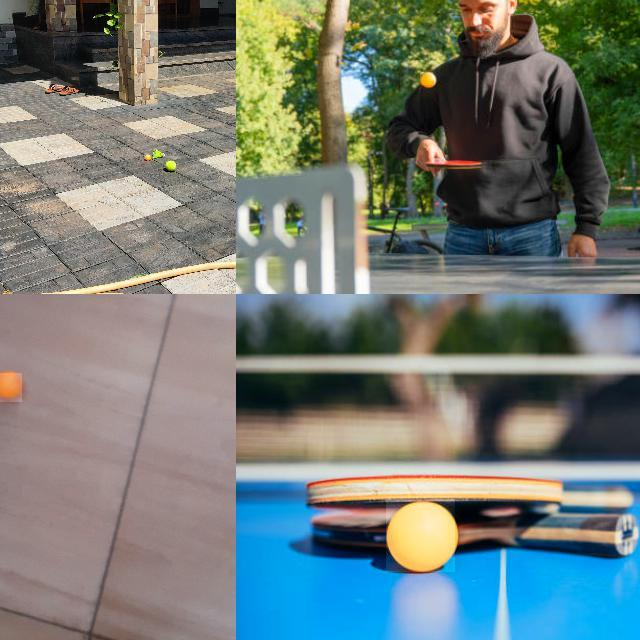ping-pong-ball: (386, 500, 456, 572), (0, 373, 23, 404), (420, 72, 434, 86), (144, 153, 150, 161)
